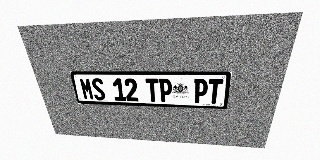1: (111, 78, 126, 101)
2: (124, 78, 138, 101)
M: (79, 78, 95, 100)
P: (193, 79, 208, 103), (159, 79, 172, 102)
S: (90, 78, 106, 100)
T: (207, 79, 223, 104), (145, 78, 159, 102)
